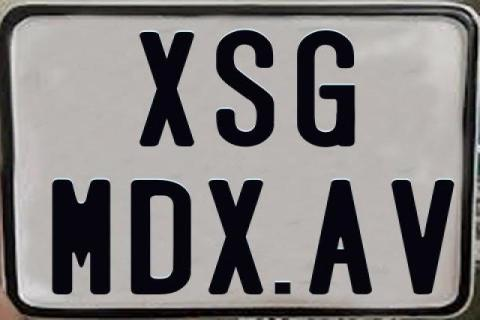A: (309, 180, 375, 294)
D: (130, 178, 197, 294)
G: (296, 29, 356, 150)
M: (51, 180, 113, 300)
S: (215, 30, 278, 152)
V: (391, 179, 454, 295)
X: (139, 31, 196, 147), (208, 180, 264, 295)
